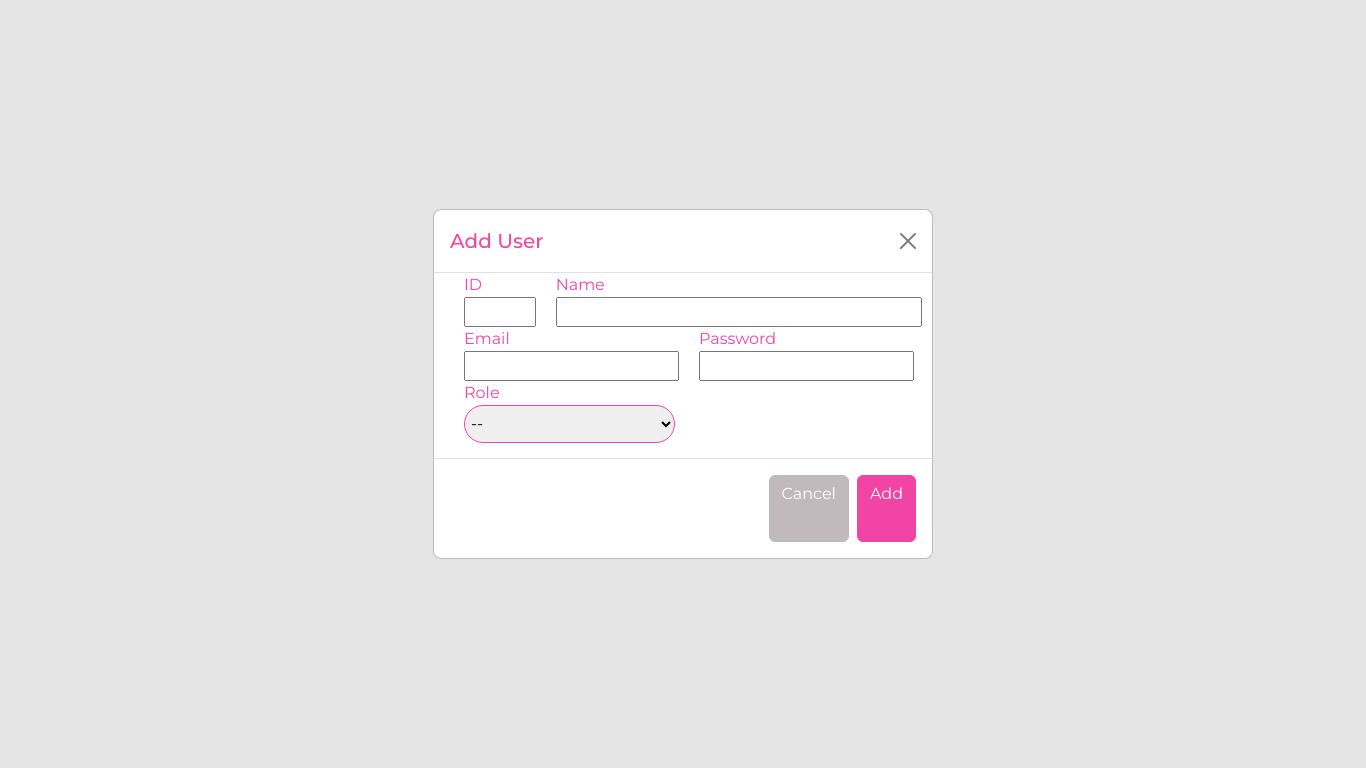
Test: AddUser Component › should handle error when adding a user with an invalid email
Click the button with test id "btn_modal": point(886, 509) top-left (857, 475), bottom-right (916, 542)
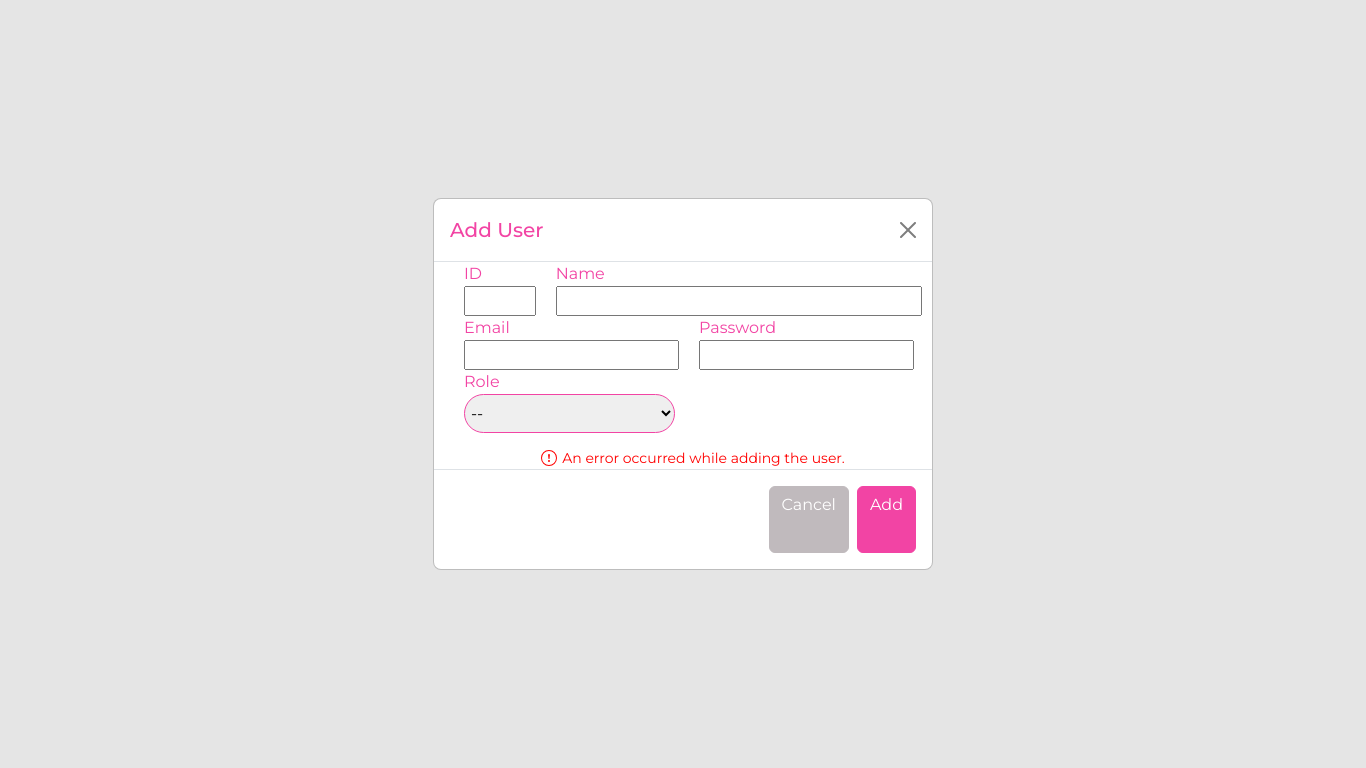
expect the text with test id "error_message" reads "An error occurred while adding the user.": met, box top-left (562, 449), bottom-right (845, 467)
